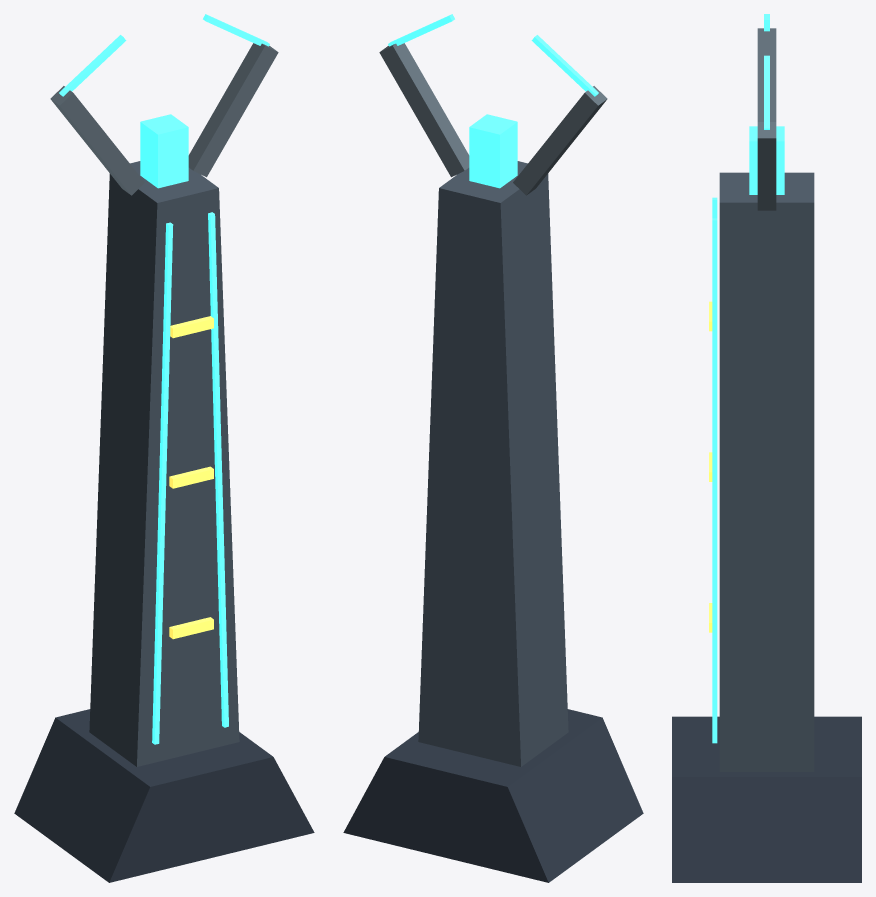
Rendered from relay_pylon.glb.
The picture shows the model from 3 angles, left to right: view 1: azimuth 30°, elevation 25°; view 2: azimuth 150°, elevation 25°; view 3: azimuth 270°, elevation 25°; orthographic projection.
Parts seen in each view (by area): view 1: relay_pylon; view 2: relay_pylon; view 3: relay_pylon.
Boxes of the visible parts, x1,y1,x2,y2 form: relay_pylon: [14, 14, 314, 882]; relay_pylon: [343, 14, 643, 882]; relay_pylon: [672, 14, 861, 882].
Bounding box in the file's own units: 10.66 × 37.1 × 8.
